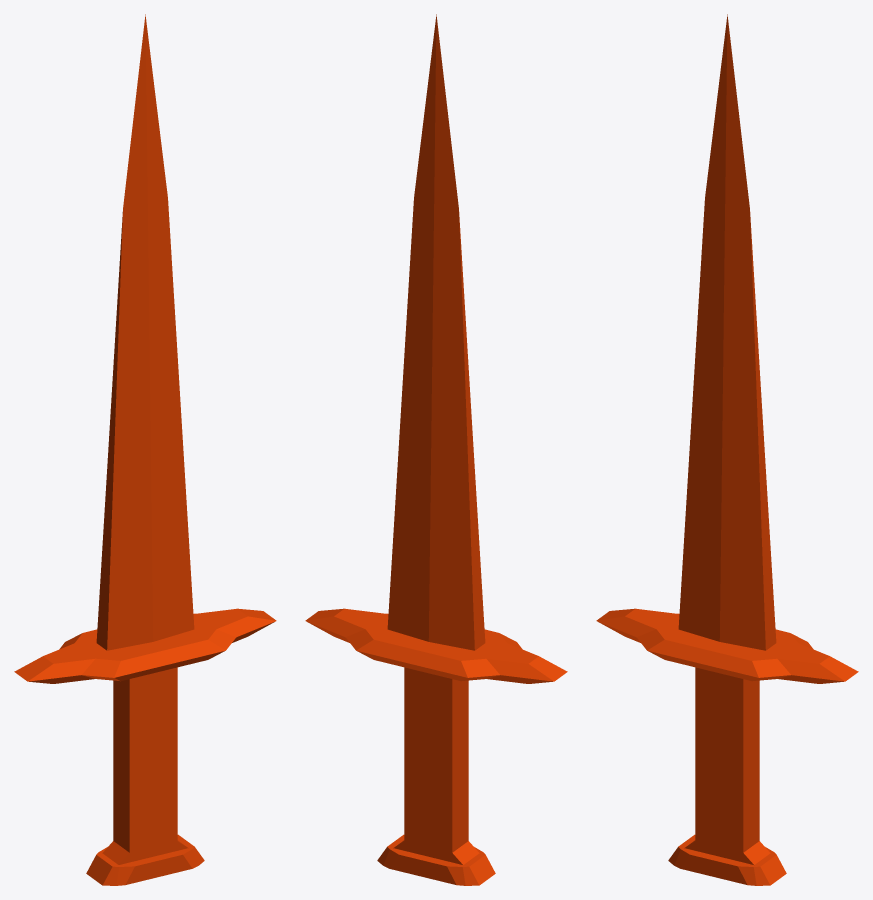
Rendered from Knife.fbx.
3 views of the same model, side by side, from view 1: azimuth 30°, elevation 25°; view 2: azimuth 150°, elevation 25°; view 3: azimuth 330°, elevation 25° (orthographic).
Parts seen in each view (by area): view 1: Cube; view 2: Cube; view 3: Cube.
Part boxes in pixels (x1,y1,x2,y2): Cube: (14, 14, 276, 885); Cube: (305, 14, 567, 885); Cube: (596, 14, 858, 885).
Bounding box in the file's own units: 9.13 × 29.86 × 3.11.
